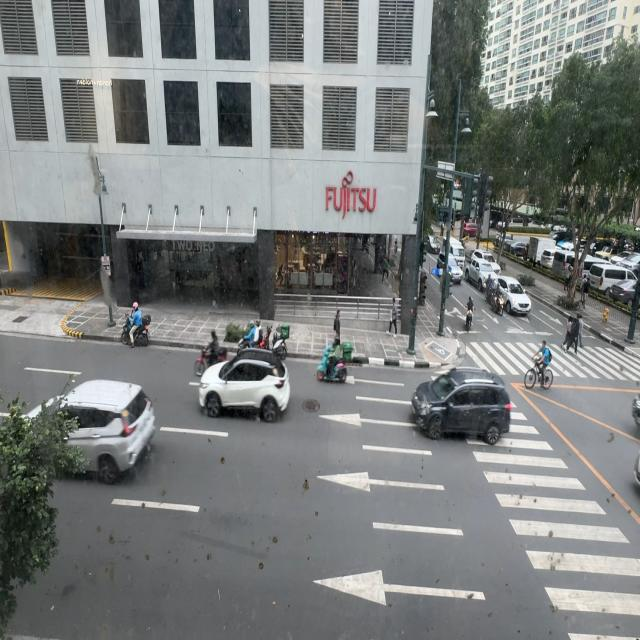crossing: (562, 315, 572, 351), (576, 311, 584, 349)
pedestrain: (387, 297, 398, 338), (334, 311, 341, 341)
